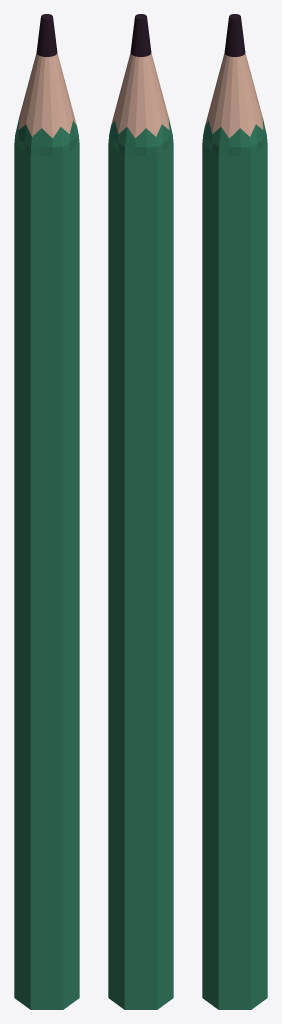
File: Lapis classico escolar.fbx
The picture shows the model from 3 angles, left to right: view 1: azimuth 90°, elevation 25°; view 2: azimuth 150°, elevation 25°; view 3: azimuth 270°, elevation 25°; orthographic projection.
Visible parts, largest first — view 1: lapis classico hb; view 2: lapis classico hb; view 3: lapis classico hb.
Part boxes in pixels (left/top/right/bottom): lapis classico hb: left=14, top=14, right=79, bottom=1009; lapis classico hb: left=108, top=14, right=173, bottom=1009; lapis classico hb: left=202, top=14, right=267, bottom=1009.
Bounding box in the file's own units: 4 × 73.33 × 4.42.
